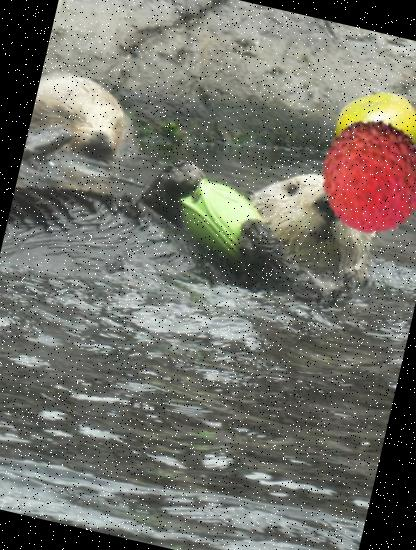Lychee: (303, 107, 416, 246)
Pomelo: (323, 77, 416, 185)
